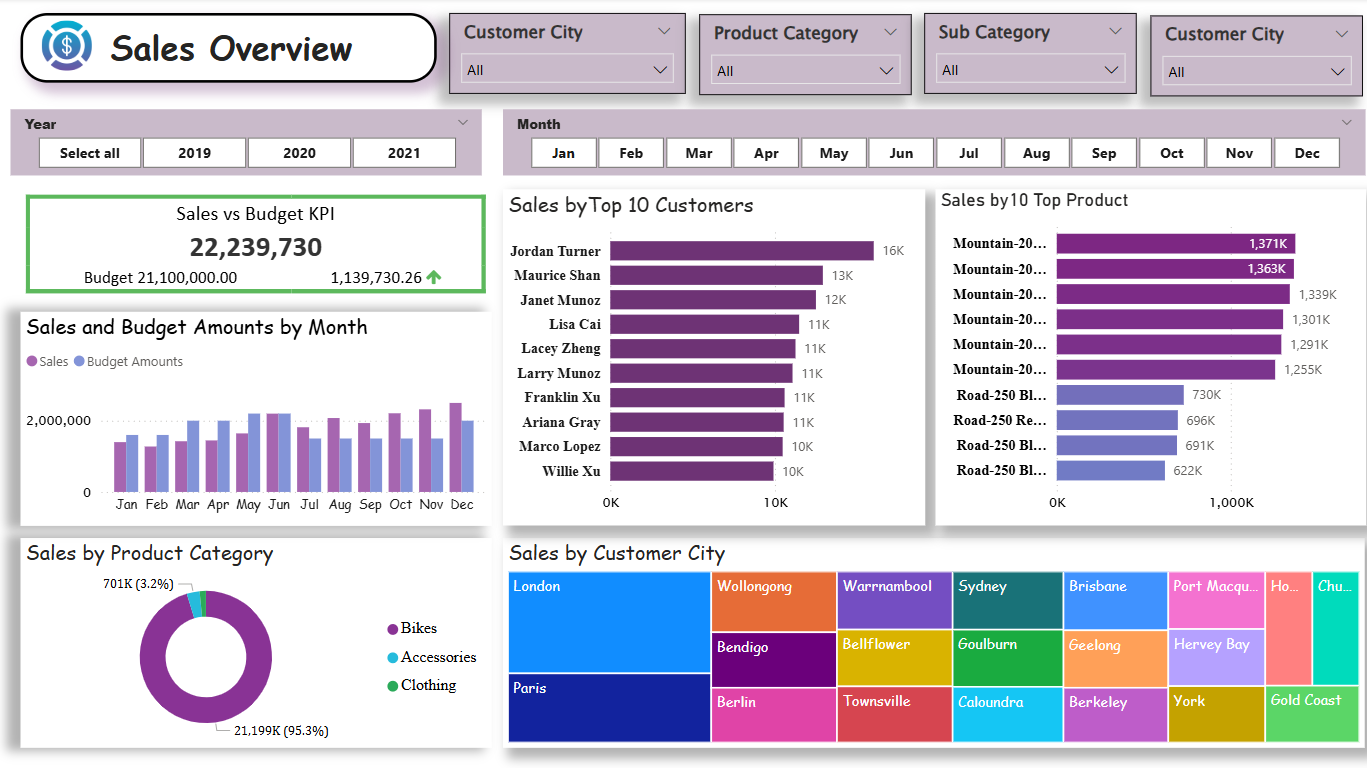

The dashboard page shown, as its layout file describes it:
{"tool":"powerbi","page":{"name":"Sales OverView","canvas":[1280,720],"ordinal":0},"visuals":[{"type":"slicer","fields":{"Values":["DIM_Customers.Customer City"]},"box":[419.8,14,219.8,75.6],"z":0},{"type":"BBED0A4D4D8D44CE93CF2DAFADEE466C","fields":{"actual":["Key Measures.Sales"],"target1":["Key Measures.Budget Amounts"],"target2":["Key Measures.Sales - Budget"]},"box":[20.9,177.9,438.4,102.3],"z":1000},{"type":"shape","title":"Sales Overview","box":[20.9,14,387.2,65.1],"z":2000},{"type":"slicer","fields":{"Values":["DIM_Calendar.Year"]},"box":[11.6,103.5,438.4,61.6],"z":3000},{"type":"slicer","fields":{"Values":["DIM_Products.Product Category"]},"box":[651.9,15.1,197.7,75.6],"z":4000},{"type":"slicer","fields":{"Values":["DIM_Customers.Customer City"]},"box":[1072.1,16.3,197.7,75.6],"z":5000},{"type":"slicer","fields":{"Values":["DIM_Products.Sub Category"]},"box":[862,14,197.7,75.6],"z":6000},{"type":"slicer","fields":{"Values":["DIM_Calendar.MonthShort"]},"box":[469.8,103.5,802.3,61.6],"z":7000},{"type":"donutChart","fields":{"Category":["DIM_Products.Product Category"],"Y":["Key Measures.Sales"]},"box":[20.9,502.3,438.4,195.3],"z":8000},{"type":"treemap","fields":{"Group":["DIM_Customers.Customer City"],"Values":["Key Measures.Sales"]},"box":[470.1,502.5,801.7,195.4],"z":9000},{"type":"clusteredBarChart","title":"Sales byTop 10 Customers","fields":{"Category":["DIM_Customers.Full Name"],"Y":["Key Measures.Sales"]},"box":[469.8,177.9,393,312.8],"z":10000},{"type":"barChart","title":"Sales by10 Top Product","fields":{"Y":["Key Measures.Sales"],"Category":["DIM_Products.Product Name"]},"box":[872.1,177.9,401.2,312.8],"z":11000},{"type":"clusteredColumnChart","title":"Sales and Budget Amounts by Month","fields":{"Category":["DIM_Calendar.MonthShort"],"Y":["Key Measures.Sales","Key Measures.Budget Amounts"]},"box":[20.9,291.9,438.4,198.8],"z":12000},{"type":"image","box":[36,16.3,55.8,55.8],"z":13000}]}

Visuals, with their boxes in screenshot pixels (x1, y1, x2, y2), scaled from the page's 1280x720 canvas onto the 1367x768 screenshot:
slicer - DIM_Customers.Customer City: region(448, 15, 683, 96)
BBED0A4D4D8D44CE93CF2DAFADEE466C - Key Measures.Sales x Key Measures.Budget Amounts: region(22, 190, 491, 299)
"Sales Overview" shape: region(22, 15, 436, 84)
slicer - DIM_Calendar.Year: region(12, 110, 481, 176)
slicer - DIM_Products.Product Category: region(696, 16, 907, 97)
slicer - DIM_Customers.Customer City: region(1145, 17, 1356, 98)
slicer - DIM_Products.Sub Category: region(921, 15, 1132, 96)
slicer - DIM_Calendar.MonthShort: region(502, 110, 1359, 176)
donutChart - DIM_Products.Product Category x Key Measures.Sales: region(22, 536, 491, 744)
treemap - DIM_Customers.Customer City x Key Measures.Sales: region(502, 536, 1358, 744)
"Sales byTop 10 Customers" clusteredBarChart: region(502, 190, 921, 523)
"Sales by10 Top Product" barChart: region(931, 190, 1360, 523)
"Sales and Budget Amounts by Month" clusteredColumnChart: region(22, 311, 491, 523)
image: region(38, 17, 98, 77)
